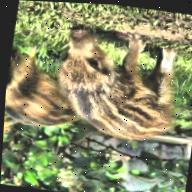boar: (56, 8, 192, 157), (2, 38, 80, 155)
